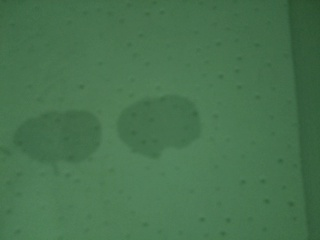Water_detected: (37, 100, 177, 161)
